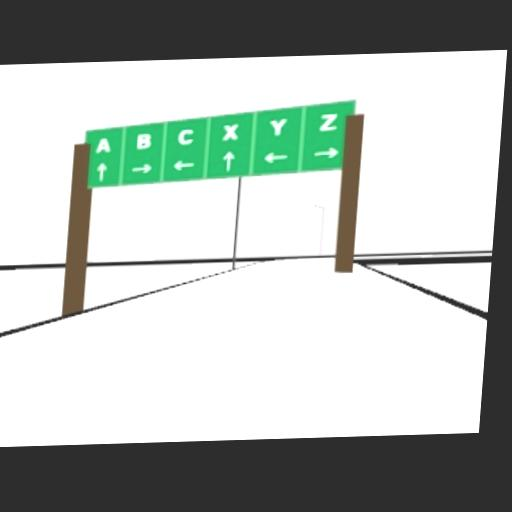A: (96, 136, 111, 151)
B: (136, 132, 151, 149)
C: (177, 127, 194, 143)
Left: (261, 151, 288, 162), (172, 157, 195, 169)
Right: (313, 145, 337, 157), (130, 162, 152, 173)
Straight: (94, 160, 108, 179), (222, 150, 235, 170)
X: (221, 123, 238, 139)
Y: (267, 116, 287, 135)
Z: (318, 112, 338, 130)
